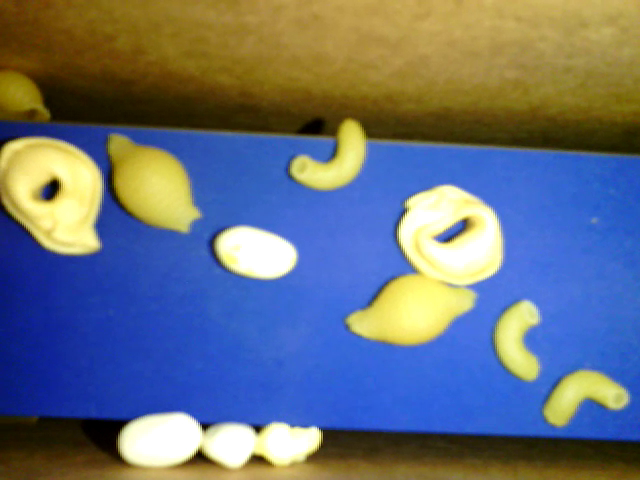elbow: (287, 114, 368, 197), (541, 367, 631, 431), (492, 298, 547, 381)
shell: (340, 272, 479, 349), (106, 133, 203, 234), (1, 68, 53, 123)
tortellini: (1, 133, 105, 257), (388, 181, 508, 286)
